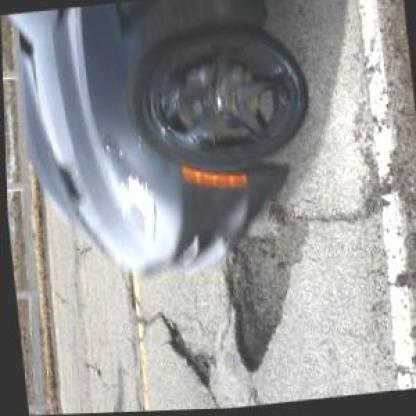pothole: (212, 197, 319, 374), (159, 318, 211, 391)
